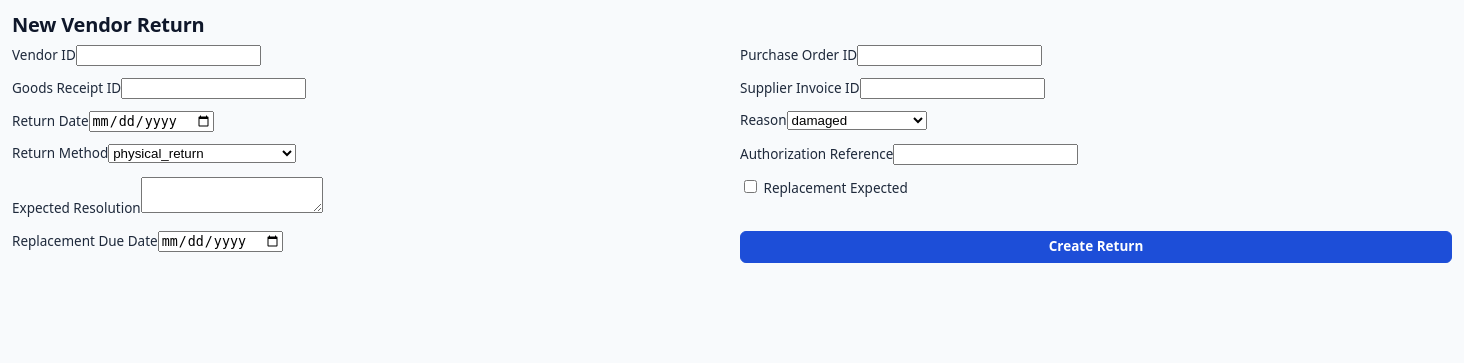
Test: P3 vendor return create › renders 400 field errors readably
Type "2" into the field labelled "Vendor ID".
click(168, 56); type("2")  # box [76,45,261,66]
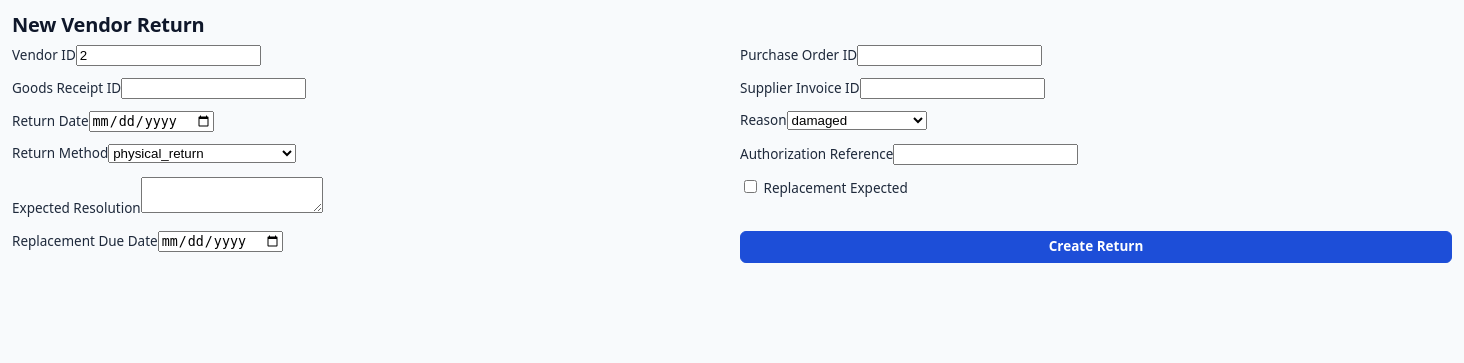
Type "5" into the field labelled "Purchase Order ID".
click(950, 56); type("5")  # box [857,45,1042,66]
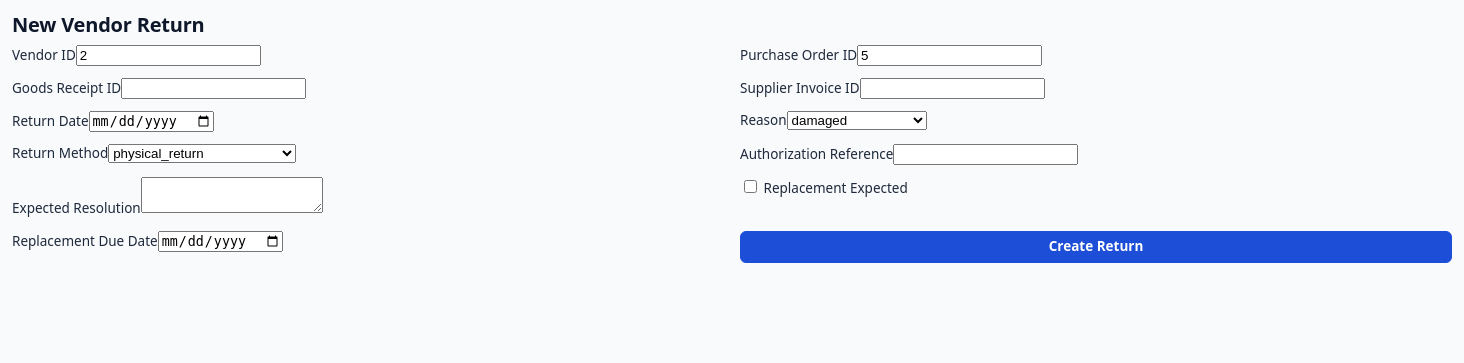
Type "2026-11-12" into the date field labelled "Return Date".
click(151, 122); type("2026-11-12")  # box [89,111,214,132]
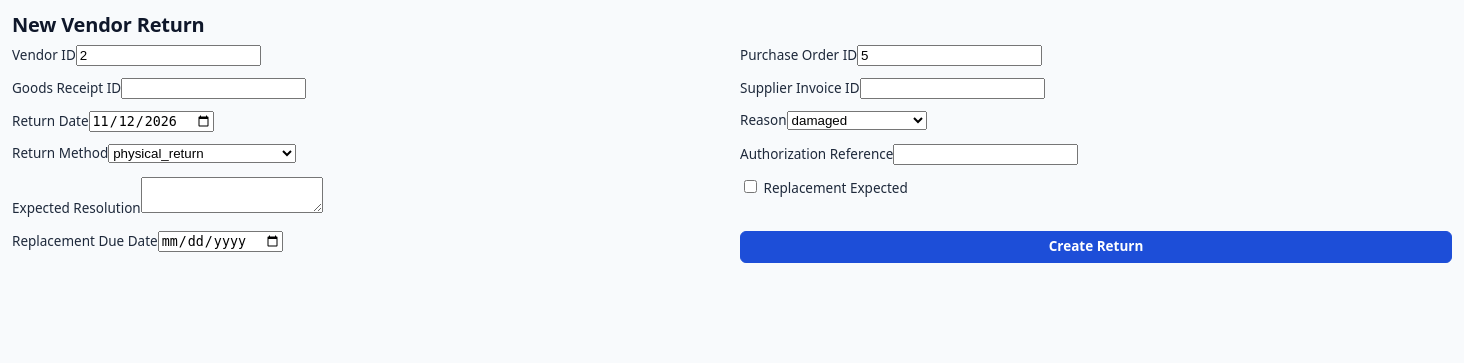
Click the button "Create Return".
click(1096, 247)  # box [740,231,1452,263]
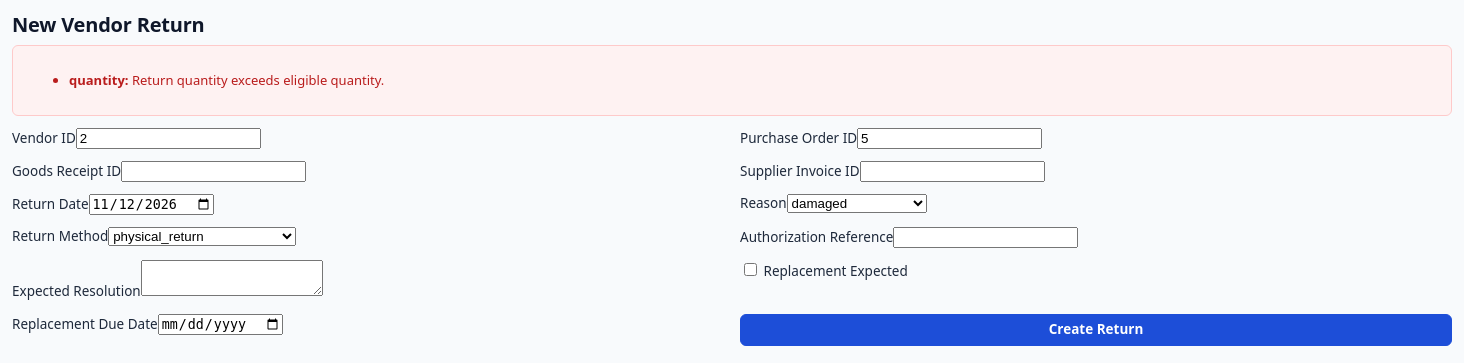
Result: the message "quantity: Return quantity exceeds eligible quantity." is shown at [12,45,1452,116]
Result: the list item "Return quantity exceeds eligible quantity." is shown at [132,71,384,89]
